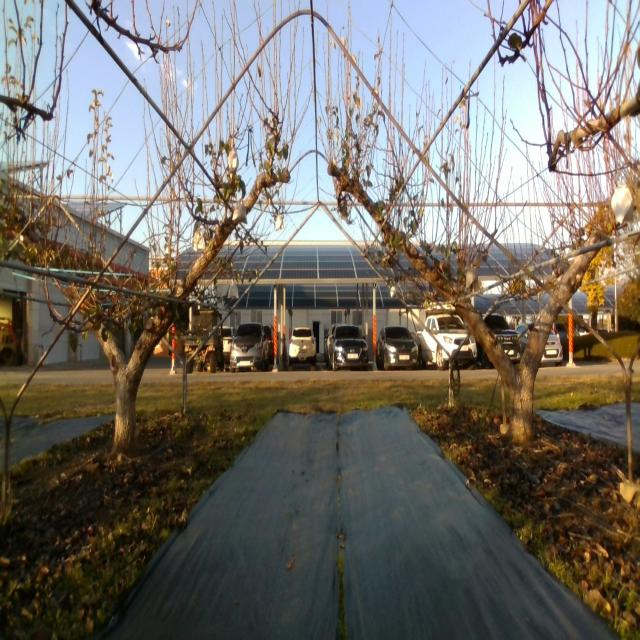pearbags: (611, 184, 633, 225), (232, 200, 247, 224), (466, 268, 478, 292), (192, 229, 205, 251), (228, 148, 239, 173)
